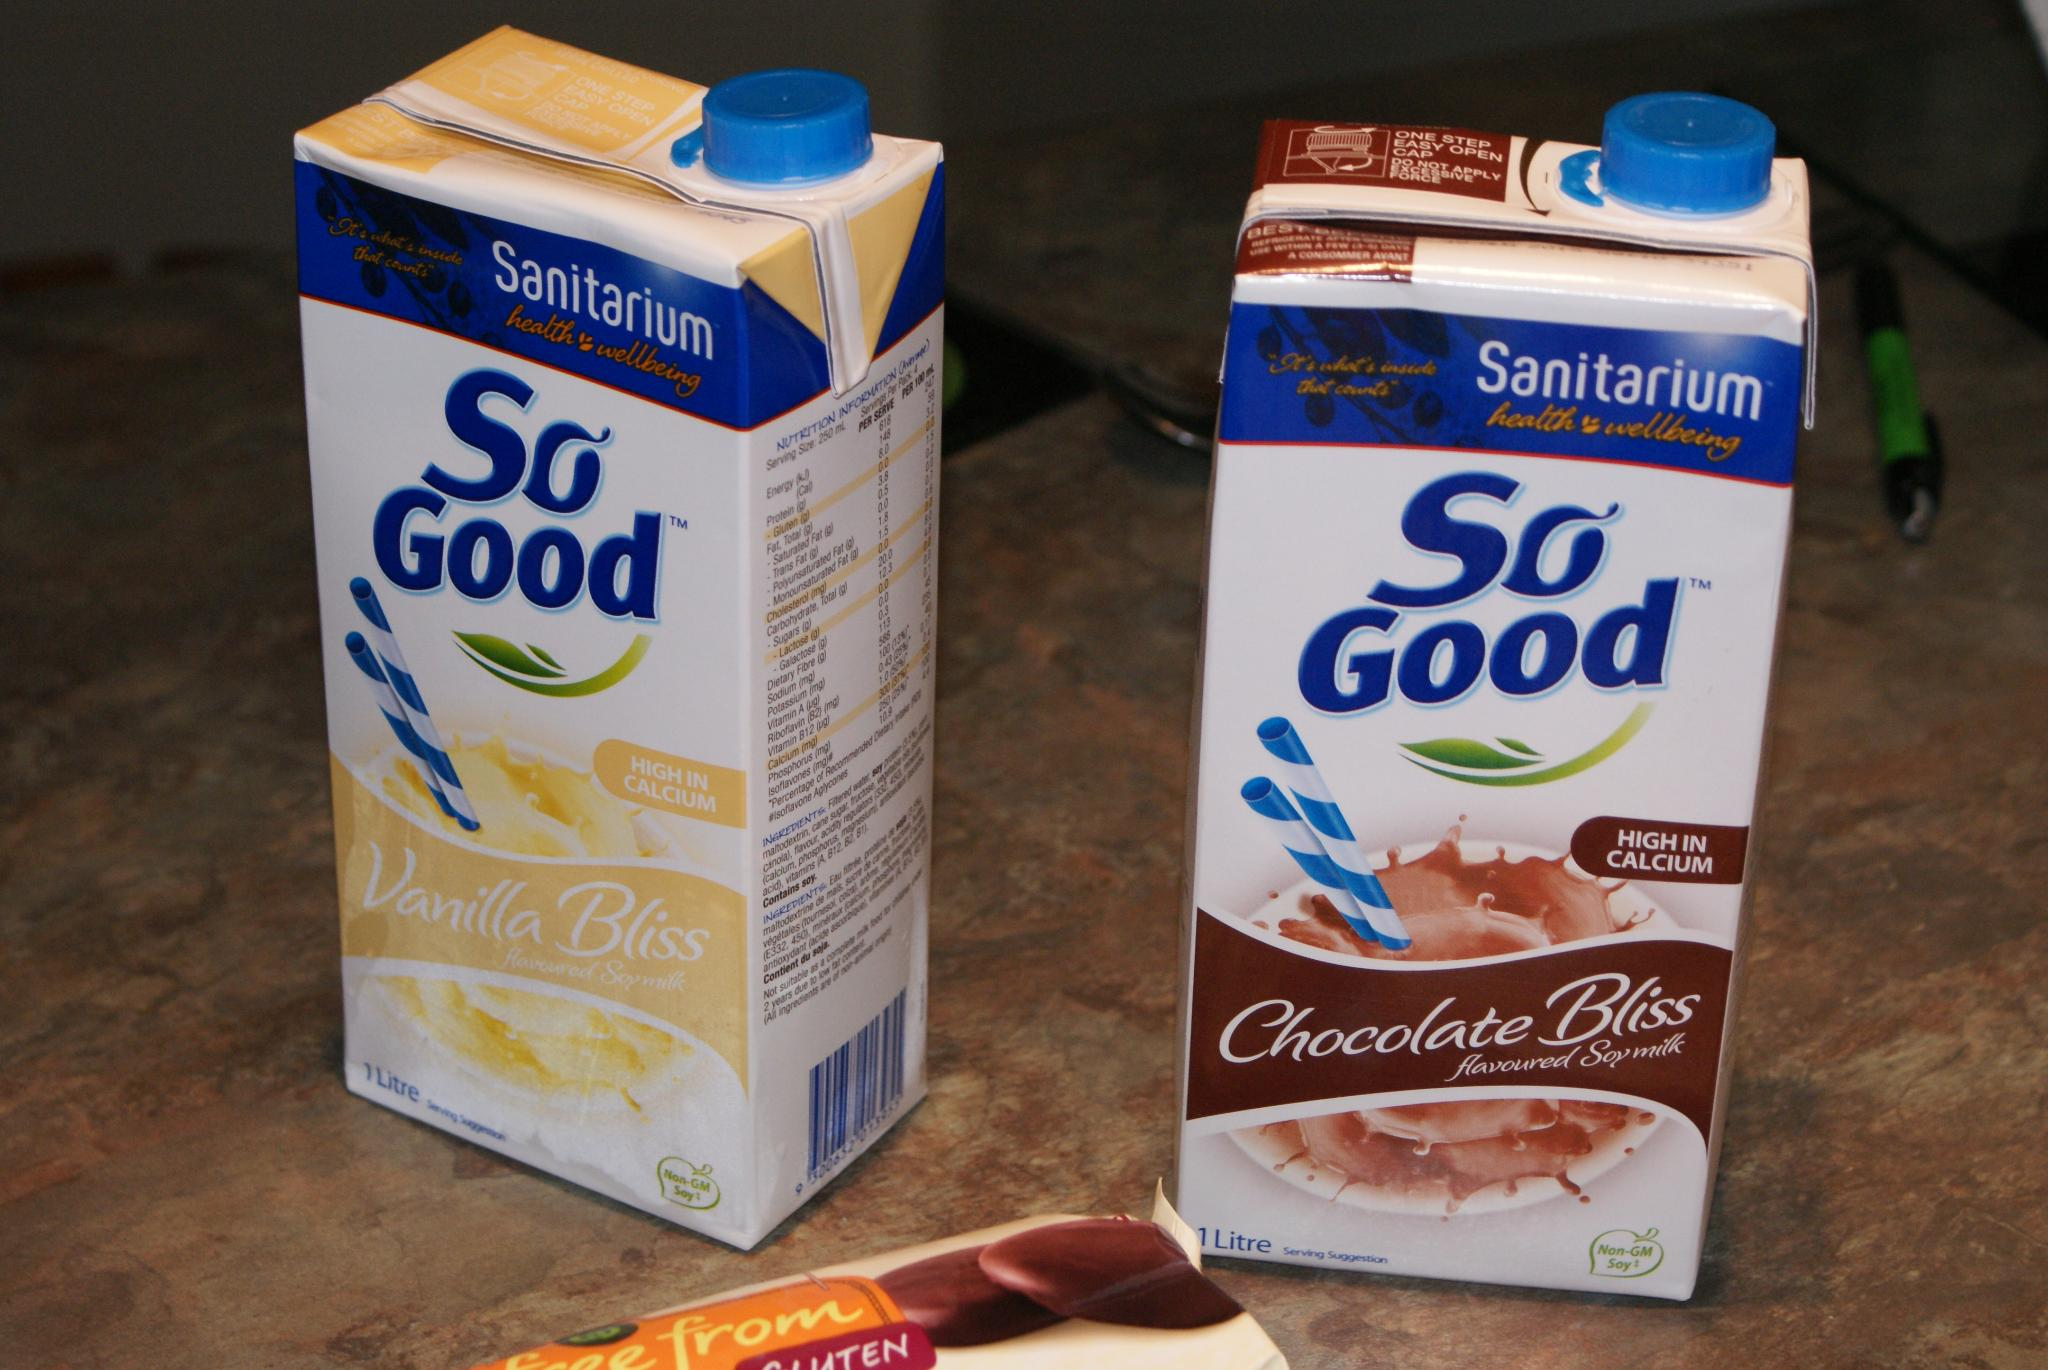cardboard: (295, 31, 941, 1248), (1177, 99, 1814, 1301)
